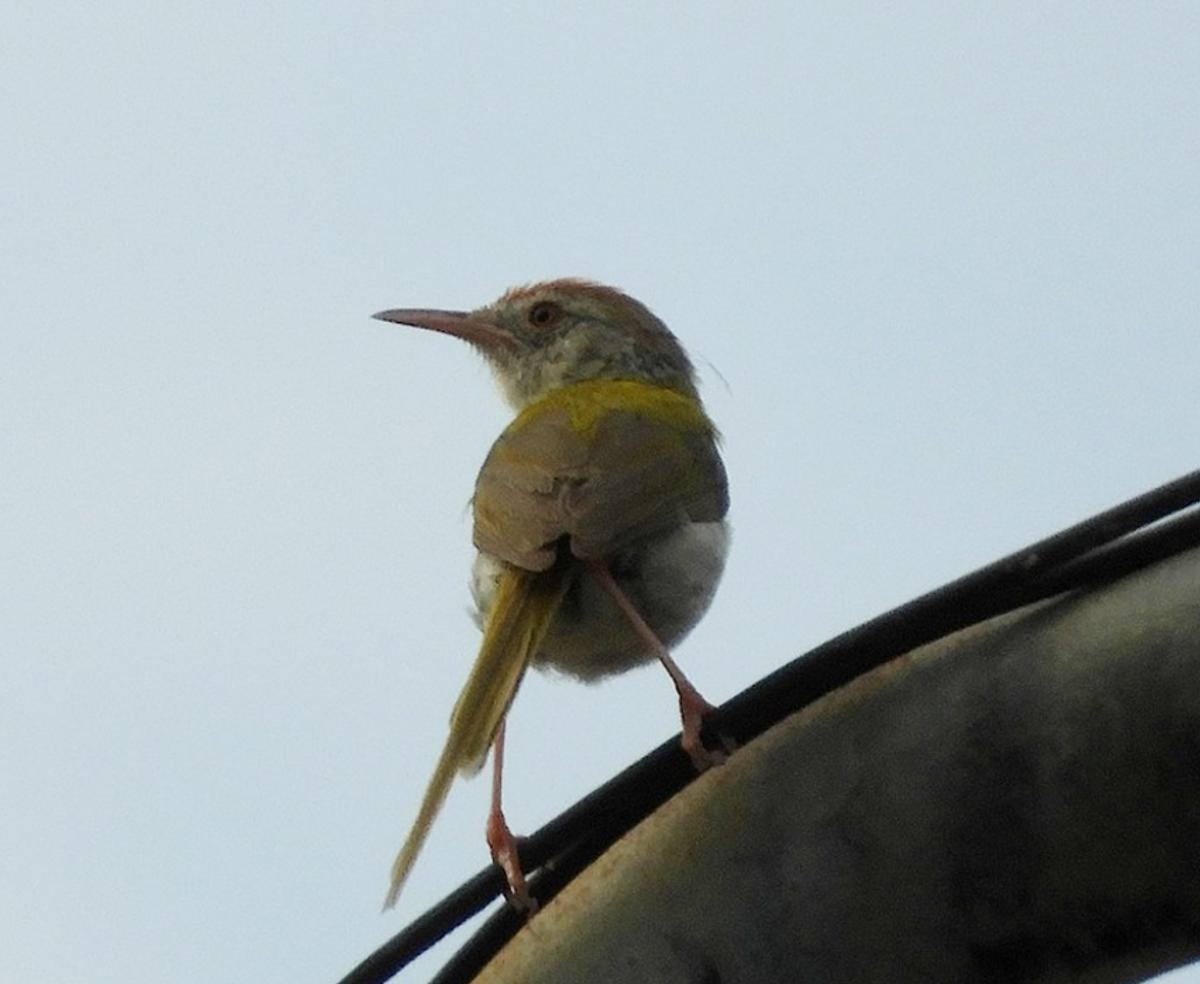tailorbird: (352, 227, 780, 872)
